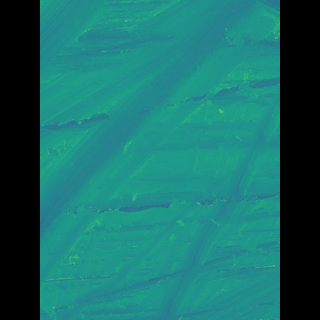Loch: (69, 0, 250, 290)
